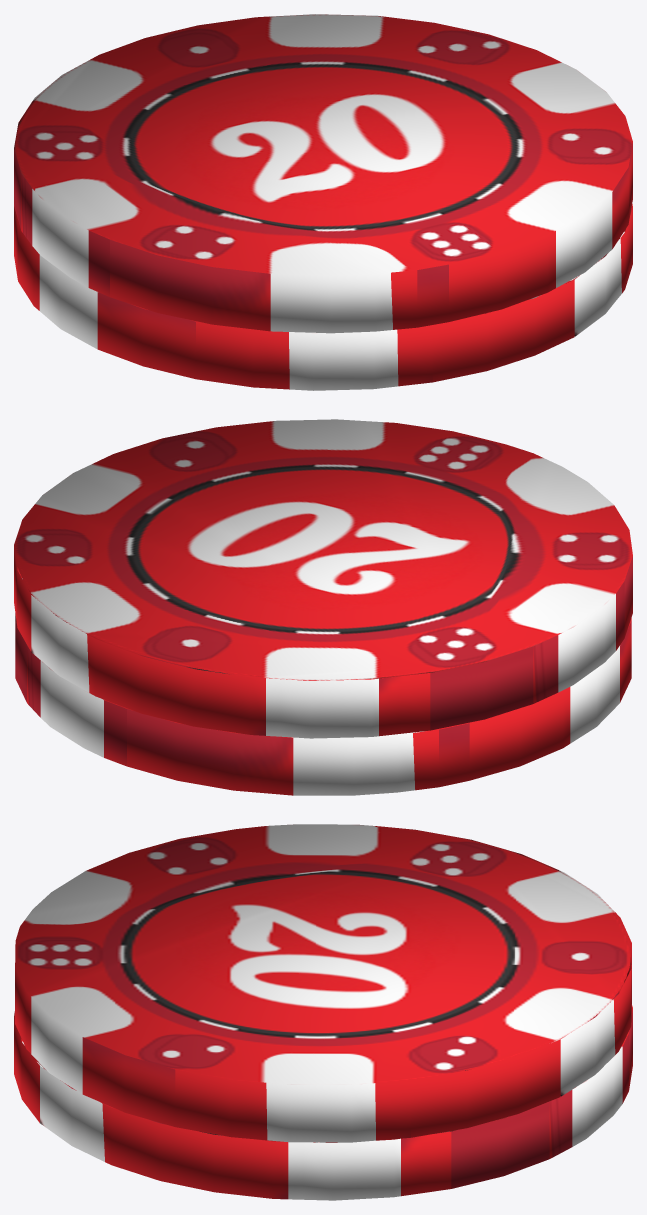
The model's file is WithdrawMoney_100.fbx.
3 views of the same model, one above another, from view 1: azimuth 30°, elevation 25°; view 2: azimuth 150°, elevation 25°; view 3: azimuth 270°, elevation 25° (orthographic).
Parts seen in each view (by area): view 1: Cylinder.026; view 2: Cylinder.026; view 3: Cylinder.026.
Boxes of the visible parts, <box> form: Cylinder.026: <box>14,14,632,390</box>; Cylinder.026: <box>14,419,632,795</box>; Cylinder.026: <box>14,824,632,1200</box>.
Size of the model in its own units: 14.4 by 2.95 by 14.4.
